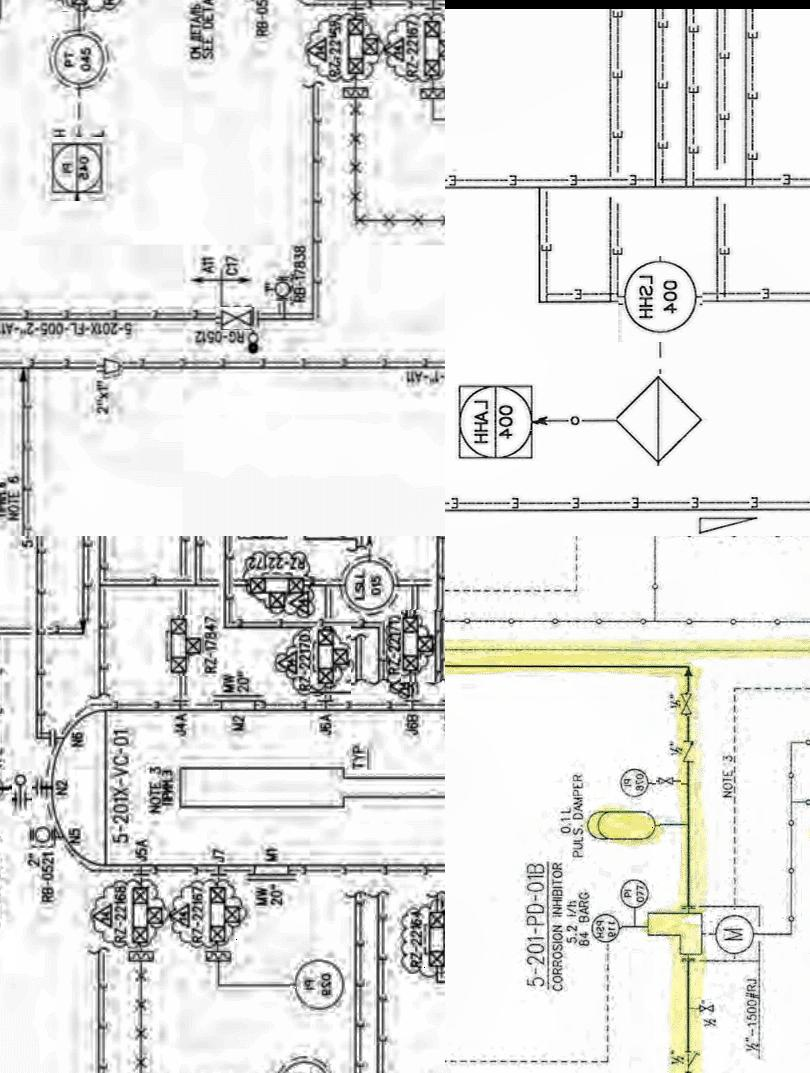2 WAY VALVE: (202, 881, 247, 952), (402, 607, 443, 680), (240, 569, 310, 611), (310, 623, 351, 693), (337, 14, 378, 78), (129, 886, 169, 946), (166, 614, 204, 674), (418, 903, 445, 969), (422, 14, 445, 79)
BLIND SPADE OPEN: (13, 770, 34, 815)
CONCENTRIC REDUCER: (97, 352, 123, 378)
DCS ACCESSIBLE: (448, 376, 538, 464), (46, 135, 112, 199), (231, 536, 292, 542)
DIAPHRAGM SEAL: (274, 647, 302, 679), (389, 668, 417, 695), (286, 588, 314, 613), (334, 81, 372, 98), (415, 81, 445, 99)
DRUM AND PRESSURE VESSEL: (585, 805, 660, 841)
END FLANGED: (165, 898, 195, 932), (0, 750, 7, 772)
FIELD INSTRUMENT: (618, 256, 702, 342), (48, 26, 117, 94), (338, 550, 400, 617), (290, 956, 346, 1012), (708, 907, 758, 957), (273, 1050, 337, 1073), (618, 766, 652, 799), (618, 874, 651, 907), (592, 910, 622, 941), (29, 821, 55, 847), (271, 276, 296, 299), (0, 772, 9, 800)
GATE VALVE: (216, 306, 256, 328), (695, 998, 723, 1017), (657, 774, 683, 789), (680, 690, 696, 714)
HARDWIRED INTERLOCK PRIMARY.: (616, 374, 704, 465)
REVISION TRIANGLE: (302, 30, 333, 62), (90, 897, 117, 932), (382, 28, 408, 62)
SPECTACLE BLIND OPEN: (247, 304, 262, 356)
